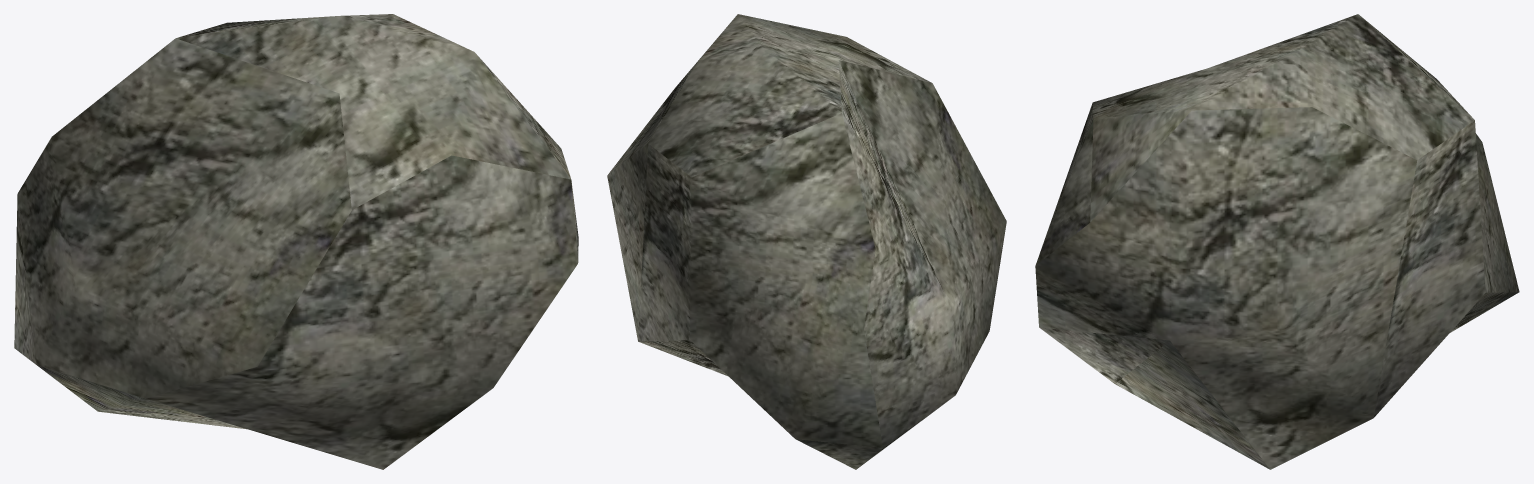
The model's file is MIN_COB_STONE_V3_10.glb.
3 views of the same model, side by side, from view 1: azimuth 30°, elevation 25°; view 2: azimuth 150°, elevation 25°; view 3: azimuth 270°, elevation 25° (orthographic). The views are drawn at different scales.
Visible parts, largest first — view 1: Mesh; view 2: Mesh; view 3: Mesh.
Boxes of the visible parts, box(x1,y1,x2,y2) form: Mesh: box(14, 14, 578, 469); Mesh: box(607, 14, 1006, 469); Mesh: box(1035, 14, 1519, 469).
Size of the model in its own units: 1.19 by 1.02 by 1.17.
Materials: 1 (1 with a texture image).
